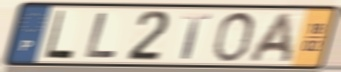2: (124, 8, 172, 63)
A: (245, 11, 294, 64)
L: (83, 11, 120, 59), (43, 9, 76, 61)
O: (211, 10, 257, 64)
T: (180, 12, 213, 61)
